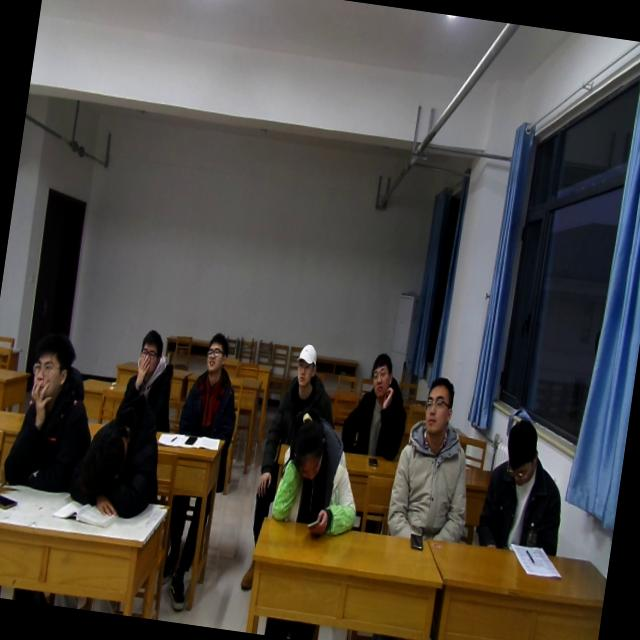bow: (65, 377, 176, 524), (268, 398, 372, 541)
down: (495, 412, 546, 493), (284, 413, 333, 488)
lookup: (20, 320, 82, 412), (416, 368, 464, 442), (128, 321, 168, 385), (364, 343, 399, 404), (289, 334, 324, 394), (199, 326, 232, 381)
sit: (0, 321, 107, 498), (382, 370, 487, 550), (473, 410, 577, 560), (336, 344, 418, 464), (176, 326, 250, 442), (264, 339, 339, 452), (110, 322, 184, 433)
